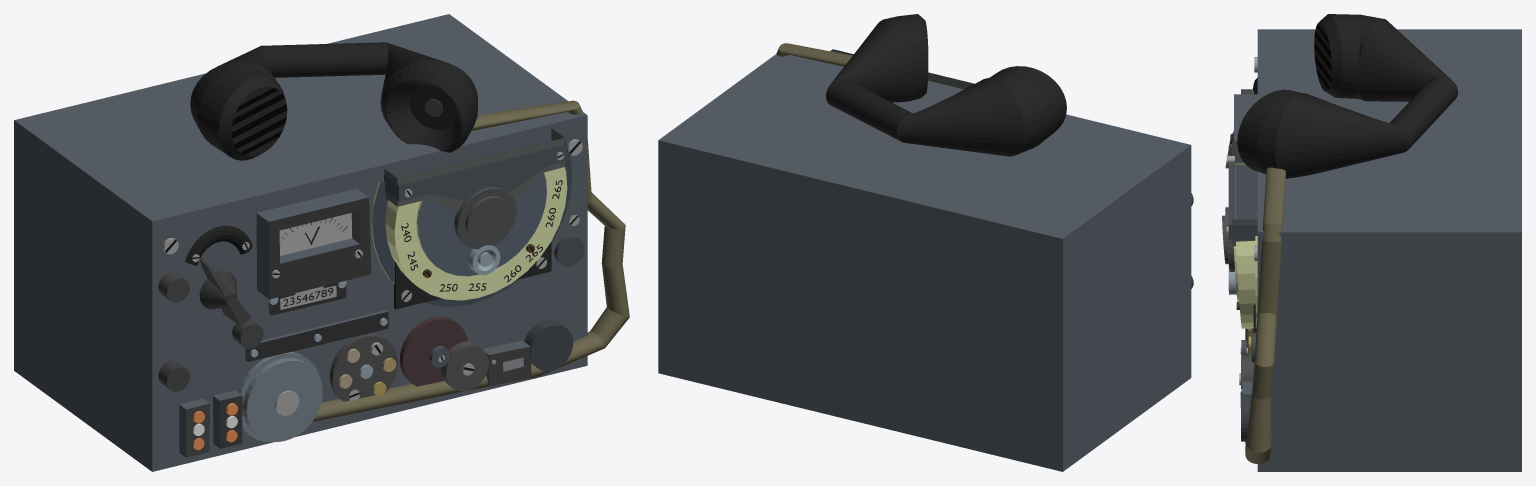
Rendered from Guidaben.glb.
3 renders of one model, left to right at view 1: azimuth 30°, elevation 25°; view 2: azimuth 150°, elevation 25°; view 3: azimuth 270°, elevation 25°, orthographic. The views are drawn at different scales.
Visible parts, largest first — view 1: Cube, Cylinder.043, Cylinder.042, Cylinder.029, Cylinder.030, Cylinder.006, Cube.002, Cylinder.032, Cylinder.010, Cylinder.009, Cube.001, Cylinder.033 (+12 smaller); view 2: Cube, Cylinder.043, Cylinder.042; view 3: Cube, Cylinder.043, Cylinder.042, Cube.002, Cylinder.029, Cylinder.032, Cylinder.012, Cube.001, Cylinder.011.
Part boxes in pixels (<box>): Cube: <box>14,14,587,471</box>; Cylinder.043: <box>190,42,477,160</box>; Cylinder.042: <box>312,100,629,421</box>; Cylinder.029: <box>385,167,567,300</box>; Cylinder.030: <box>416,173,546,276</box>; Cylinder.006: <box>243,358,322,441</box>; Cube.002: <box>384,143,566,201</box>; Cylinder.032: <box>454,187,516,249</box>; Cylinder.010: <box>399,316,467,386</box>; Cylinder.009: <box>329,333,398,401</box>; Cube.001: <box>384,128,564,213</box>; Cylinder.033: <box>371,138,572,306</box>; Cube: <box>658,54,1191,471</box>; Cylinder.043: <box>826,14,1066,156</box>; Cylinder.042: <box>776,43,852,66</box>; Cube: <box>1234,29,1521,471</box>; Cylinder.043: <box>1237,14,1457,178</box>; Cylinder.042: <box>1245,167,1286,463</box>; Cube.002: <box>1228,146,1257,240</box>; Cylinder.029: <box>1235,163,1255,328</box>; Cylinder.032: <box>1222,207,1234,271</box>; Cylinder.012: <box>1240,394,1251,441</box>; Cube.001: <box>1232,141,1257,246</box>; Cylinder.011: <box>1240,355,1254,394</box>.
Size of the model in its own units: 13.43 by 8.9 by 7.66.
